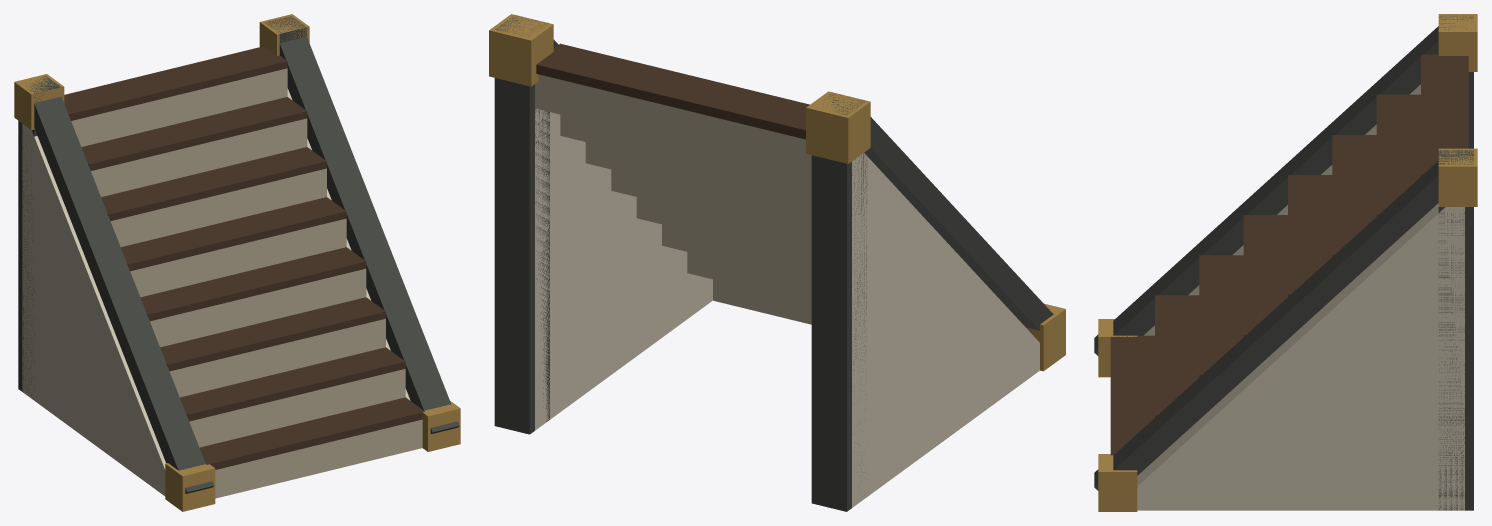
The model's file is stairs.glb.
3 views of the same model, side by side, from view 1: azimuth 30°, elevation 25°; view 2: azimuth 150°, elevation 25°; view 3: azimuth 270°, elevation 25° (orthographic). The views are drawn at different scales.
Parts seen in each view (by area): view 1: stairs; view 2: stairs; view 3: stairs.
Part boxes in pixels (left/top/right/bottom): stairs: left=14, top=14, right=460, bottom=511; stairs: left=489, top=14, right=1065, bottom=511; stairs: left=1094, top=14, right=1477, bottom=511.
Size of the model in its own units: 2.04 by 2.15 by 2.16.
